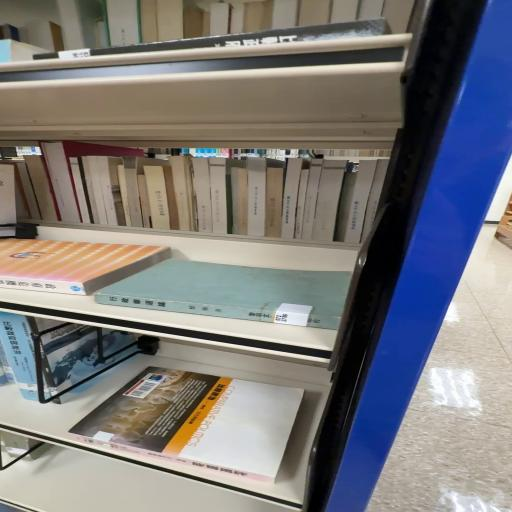flat: (70, 367, 305, 484), (95, 260, 352, 331)
